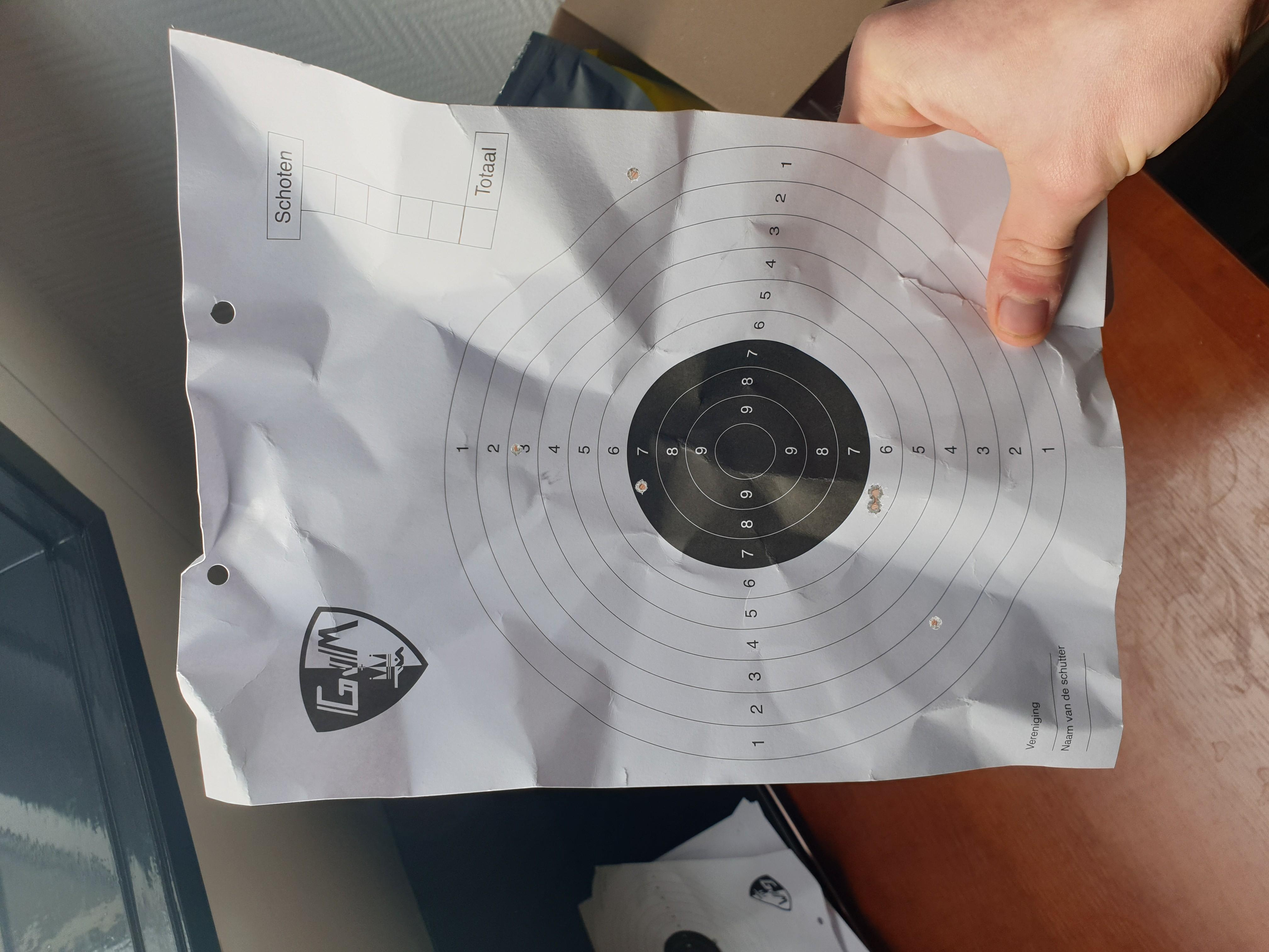hole: (863, 500, 889, 516), (864, 483, 888, 499), (623, 166, 641, 183), (928, 615, 944, 630), (634, 479, 649, 495), (510, 442, 525, 457)
